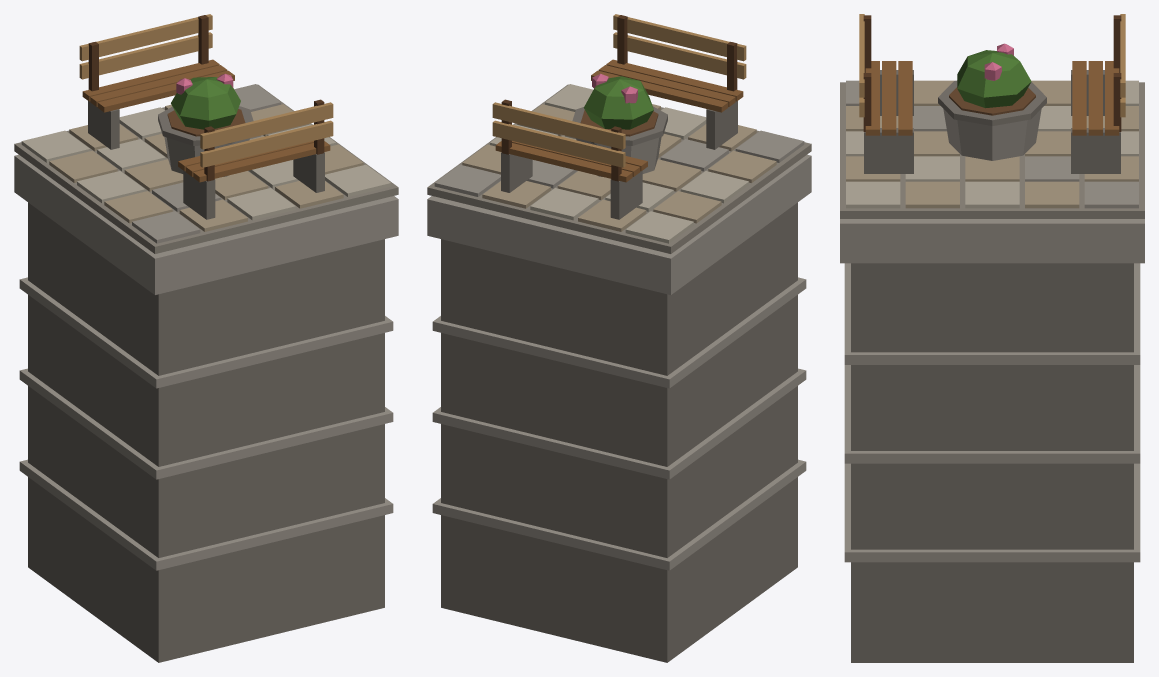
The model's file is decor_bench_pair.glb.
The picture shows the model from 3 angles, left to right: view 1: azimuth 30°, elevation 25°; view 2: azimuth 150°, elevation 25°; view 3: azimuth 270°, elevation 25°; orthographic projection. The views are drawn at different scales.
Parts seen in each view (by area): view 1: decor_bench_pair; view 2: decor_bench_pair; view 3: decor_bench_pair.
Part boxes in pixels (box(x1,y1,x2,y2)): decor_bench_pair: box(14, 14, 398, 662); decor_bench_pair: box(427, 14, 811, 662); decor_bench_pair: box(840, 14, 1144, 662).
Size of the model in its own units: 2.8 by 5.65 by 2.8.
